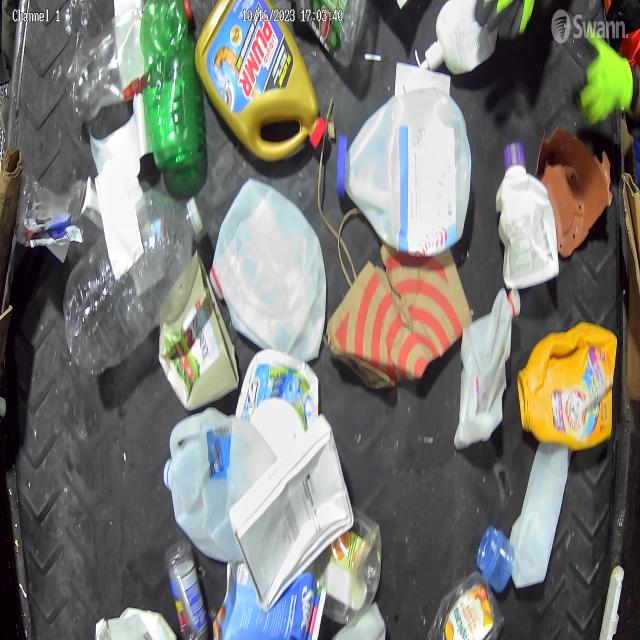milk_jug: (334, 89, 474, 253), (204, 169, 324, 349), (164, 411, 258, 549), (492, 141, 561, 294), (509, 443, 573, 589), (461, 283, 514, 451)
non_white_jug: (197, 0, 328, 168), (524, 320, 613, 456)
plastic_bottle: (68, 181, 211, 378), (139, 0, 199, 170), (68, 18, 148, 112), (426, 570, 503, 640), (165, 537, 208, 640)
